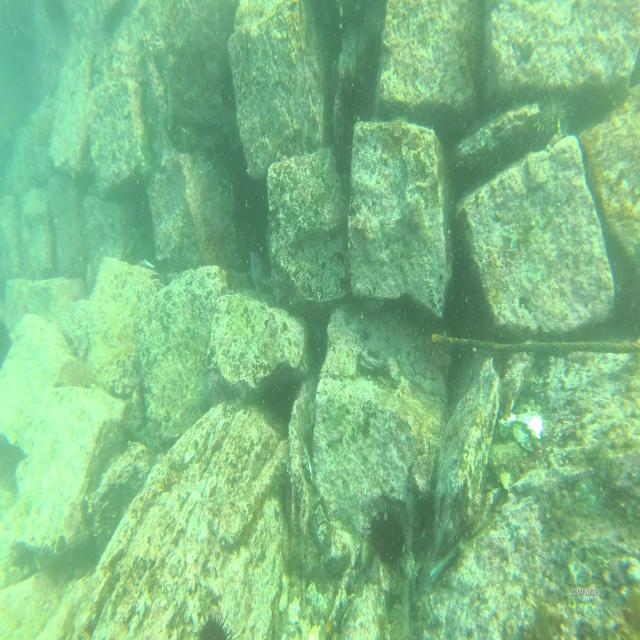echinus: (336, 58, 372, 130), (368, 500, 408, 560), (534, 90, 574, 144), (58, 356, 98, 392), (193, 607, 235, 640)
